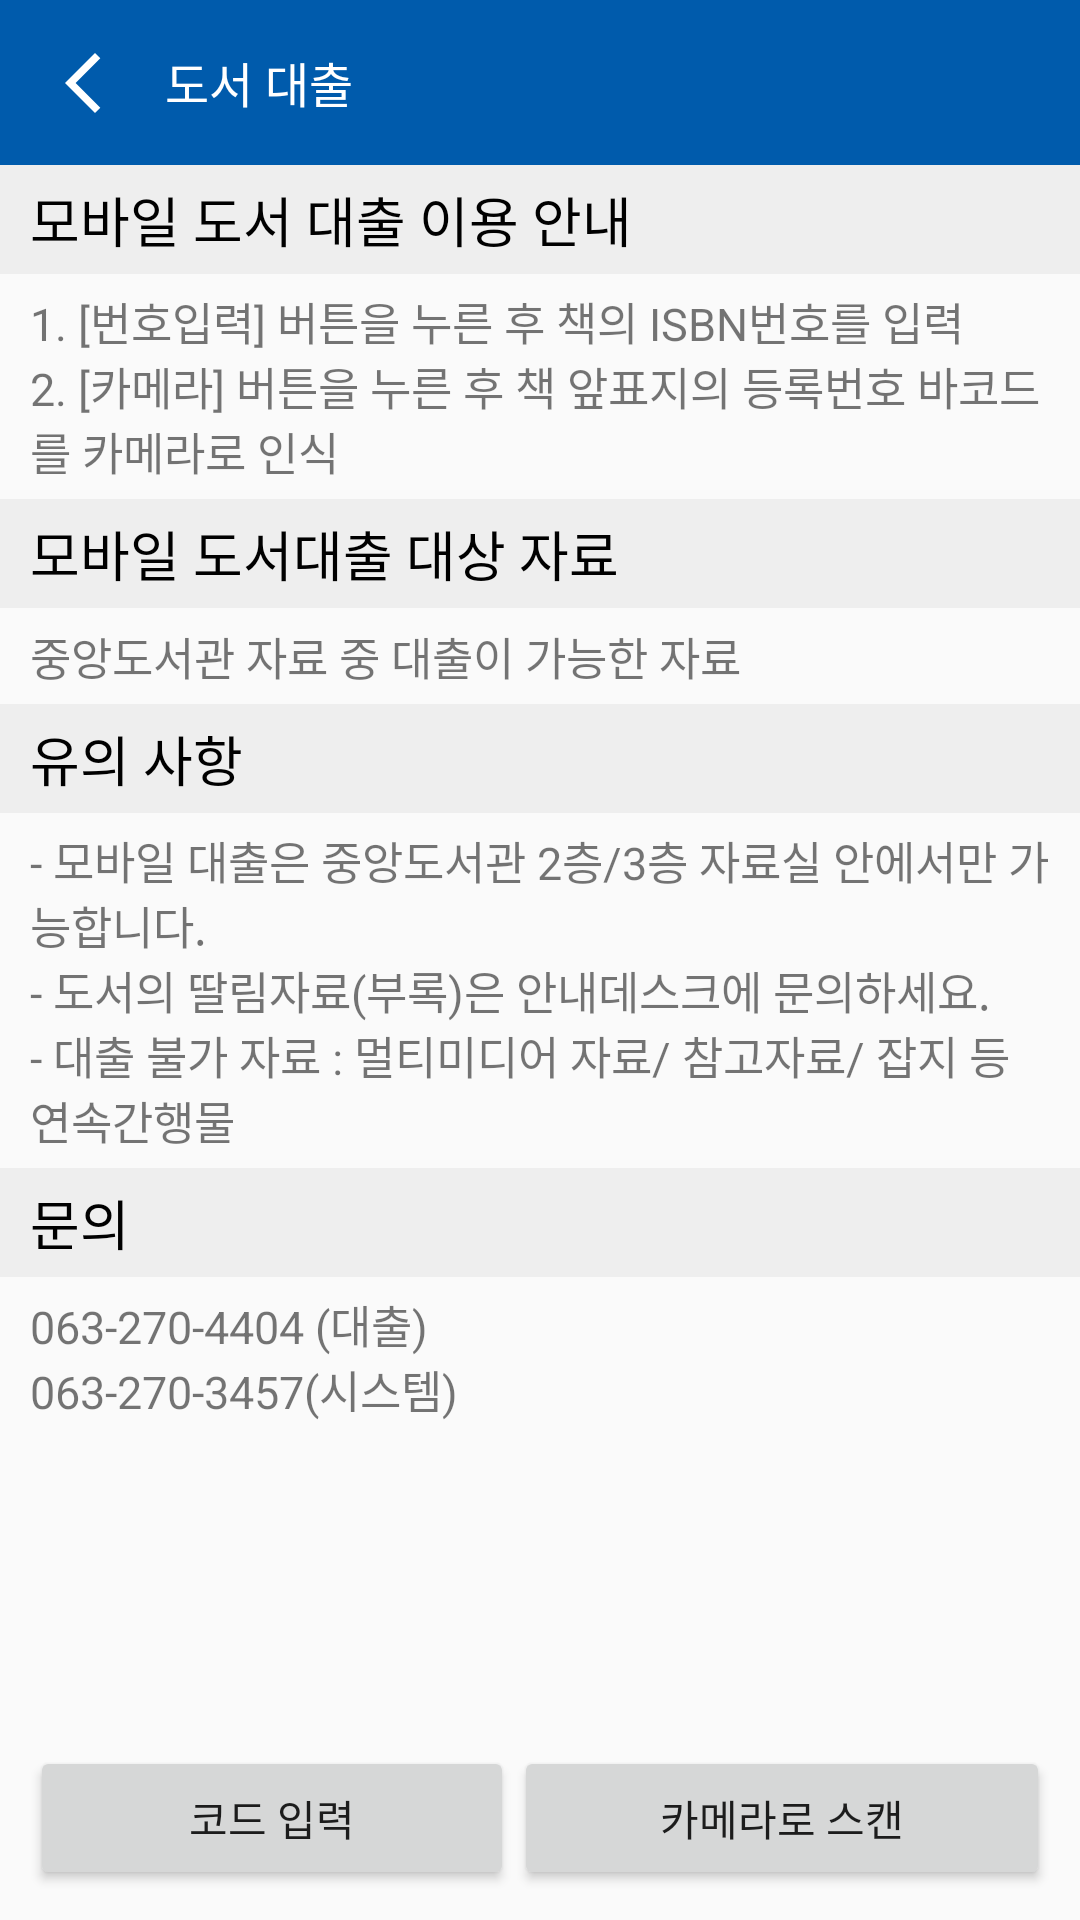

Where icons sit on this 1080x1920 app screen, as (x1, y1, x2, y2):
back: (65, 53, 100, 113)
